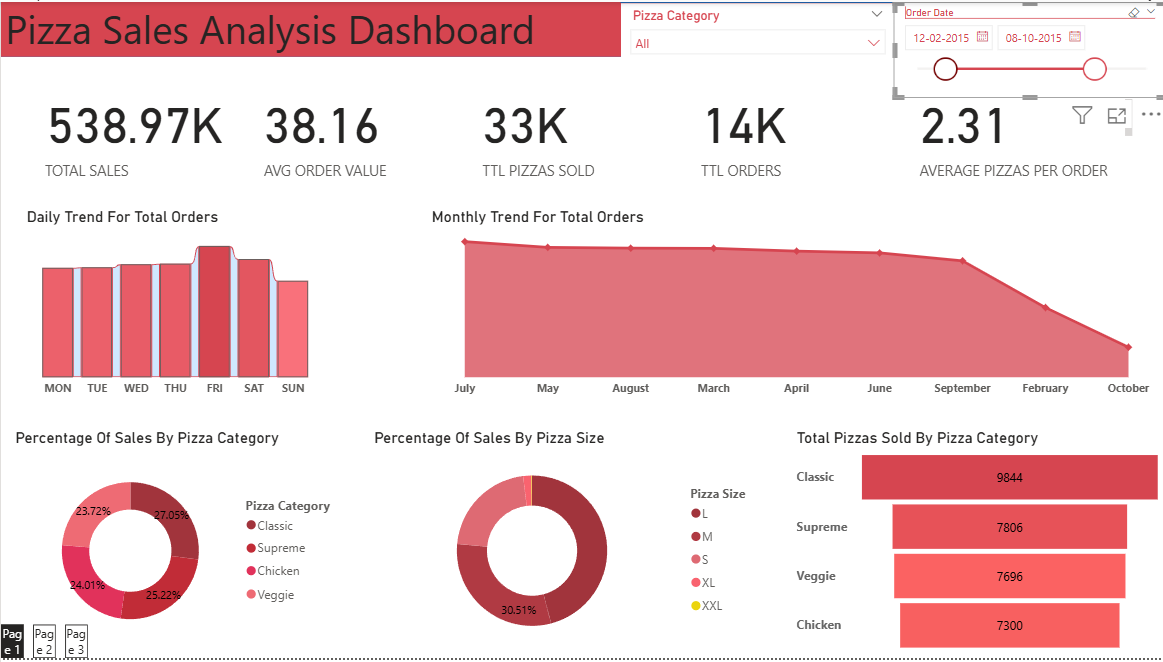

The dashboard page shown, as its layout file describes it:
{"tool":"powerbi","page":{"name":"Page 1","canvas":[1280,720],"ordinal":0},"visuals":[{"type":"shape","box":[0,0,1280.3,60.4],"z":0},{"type":"textbox","box":[0,0,680,60],"z":1000},{"type":"cardVisual","fields":{"Data":["order_details.TTL REVENUE","order_details.AVG ORDER VALUE","order_details.TTL PIZZAS SOLD","Query11.TTL ORDERS","order_details.AVERAGE PIZZAS PER ORDER","pizza_sales.TOTAL PROFIT","customers.CUSTOMER COUNT"]},"box":[32,87.7,1215.6,119.7],"z":2000},{"type":"columnChart","title":"Daily Trend For Total Orders","fields":{"Category":["pizza_sales.Order Day"],"Y":["pizza_sales.Total Orders"]},"box":[22.9,225.7,337.1,217.1],"z":3000},{"type":"areaChart","title":"Monthly Trend For Total Orders","fields":{"Category":["pizza_sales.Month Name"],"Y":["Query11.TTL ORDERS"]},"box":[468.6,225.7,811.4,217.1],"z":4000},{"type":"donutChart","title":"Percentage Of Sales By Pizza Category","fields":{"Category":["Query8.pizza_category"],"Y":["order_details.TTL REVENUE"]},"box":[11.4,468.6,371.4,250],"z":5000},{"type":"funnel","title":"Total Pizzas Sold By Pizza Category","fields":{"Category":["Query8.pizza_category"],"Y":["order_details.TTL PIZZAS SOLD"]},"box":[868.6,468.6,411.4,251.4],"z":6000},{"type":"donutChart","title":"Percentage Of Sales By Pizza Size","fields":{"Y":["pizza_sales.Total Revenue"],"Category":["pizza_sales.pizza_size"]},"box":[404.3,468.6,435.7,250],"z":7000},{"type":"slicer","fields":{"Values":["pizza_sales.pizza_category"]},"box":[680,1.4,300,61.4],"z":8000},{"type":"slicer","fields":{"Values":["pizza_sales.order_date"]},"box":[980,0,300,105.7],"z":9000},{"type":"pageNavigator","box":[0,682.9,95.7,37.1],"z":10000}]}

Visuals, with their boxes on the page's 1280x720 design canvas (x1, y1, x2, y2). These are canvas units, not pixel positions in the 1163x662 screenshot, which may show the page scaled, cropped or inside an application window:
shape: BBox(0, 0, 1280, 60)
textbox: BBox(0, 0, 680, 60)
cardVisual - order_details.TTL REVENUE x order_details.AVG ORDER VALUE: BBox(32, 88, 1248, 207)
"Daily Trend For Total Orders" columnChart: BBox(23, 226, 360, 443)
"Monthly Trend For Total Orders" areaChart: BBox(469, 226, 1280, 443)
"Percentage Of Sales By Pizza Category" donutChart: BBox(11, 469, 383, 719)
"Total Pizzas Sold By Pizza Category" funnel: BBox(869, 469, 1280, 720)
"Percentage Of Sales By Pizza Size" donutChart: BBox(404, 469, 840, 719)
slicer - pizza_sales.pizza_category: BBox(680, 1, 980, 63)
slicer - pizza_sales.order_date: BBox(980, 0, 1280, 106)
pageNavigator: BBox(0, 683, 96, 720)
